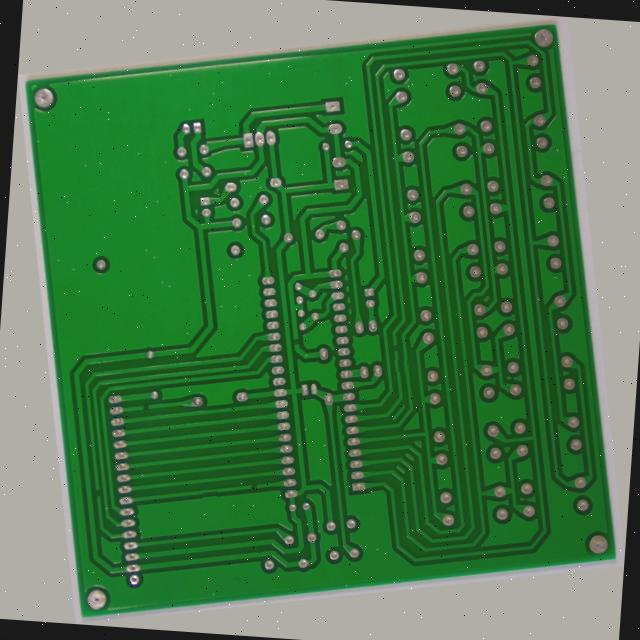open_circuit: (94, 376, 110, 391), (23, 462, 36, 480), (392, 359, 407, 372), (281, 331, 293, 347), (201, 489, 216, 501)
